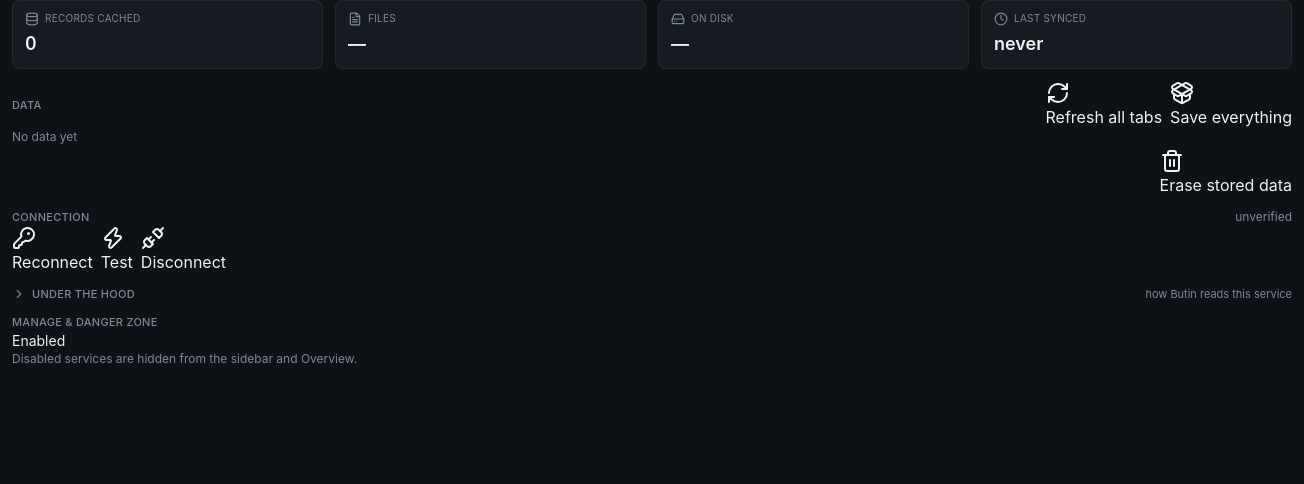
it: "Under the hood" is gated behind developer mode, then expands to reveal the connection mechanics
Expected: the text "replays your stored session cookie" is not shown
Click the button "Under the hood how Butin reads this service".
click(83, 294)  # box [12,286,1292,302]
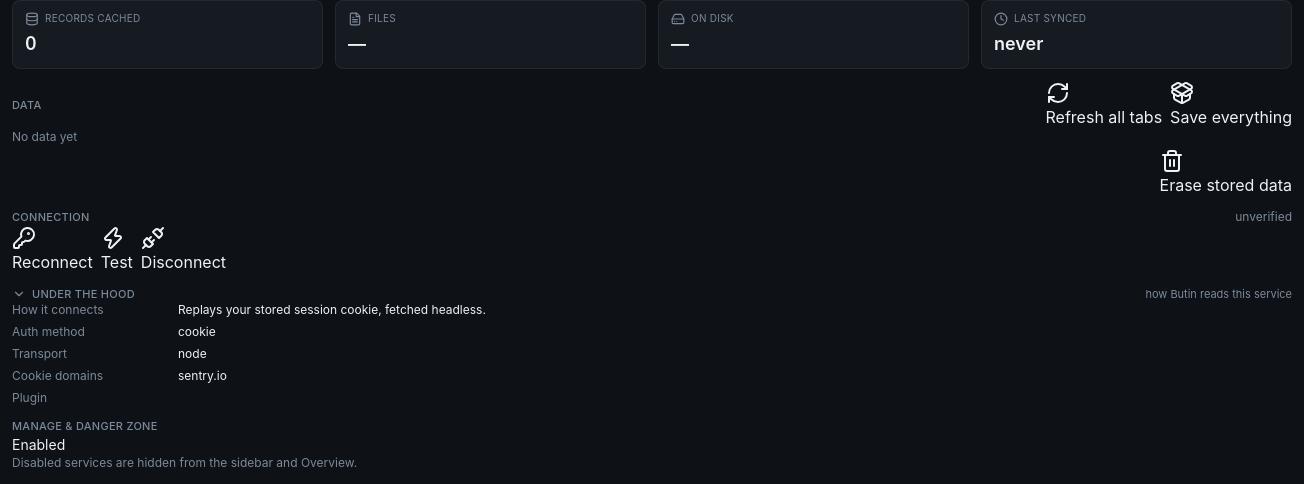
Expected: the text "Replays your stored session cookie, fetched headless." is shown, [178,302,486,317]
Expected: the text "sentry.io" is shown, [178,368,227,383]
